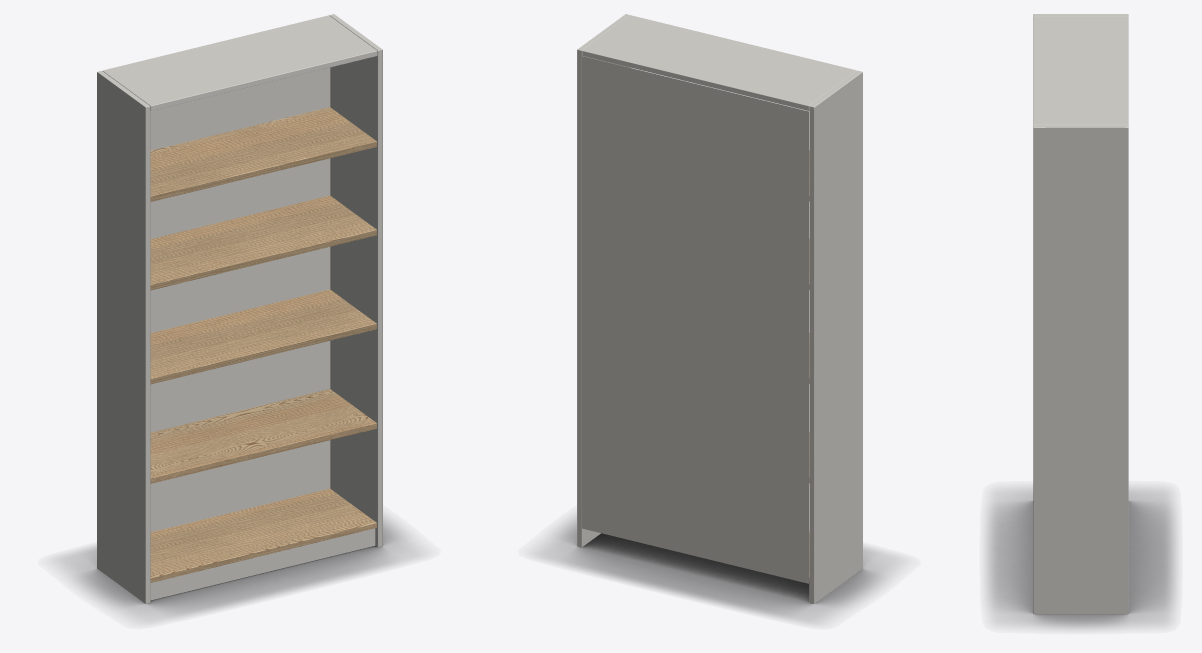
Rendered from bookshelf.glb.
3 views of the same model, side by side, from view 1: azimuth 30°, elevation 25°; view 2: azimuth 150°, elevation 25°; view 3: azimuth 270°, elevation 25° (orthographic). The views are drawn at different scales.
Visible parts, largest first — view 1: bookshelf_LOD0, bookshelf_Shadow; view 2: bookshelf_LOD0, bookshelf_Shadow; view 3: bookshelf_LOD0, bookshelf_Shadow.
Boxes of the visible parts, bbox=[...] form: bookshelf_LOD0: bbox=[97, 14, 382, 603]; bookshelf_Shadow: bbox=[59, 517, 416, 620]; bookshelf_LOD0: bbox=[577, 14, 862, 603]; bookshelf_Shadow: bbox=[539, 516, 895, 621]; bookshelf_LOD0: bbox=[1033, 14, 1128, 614]; bookshelf_Shadow: bbox=[987, 489, 1175, 628].
Size of what is drawn, in the model's own units: 1.3 by 1.8 by 0.716.
Materials: 3 (2 with a texture image).
